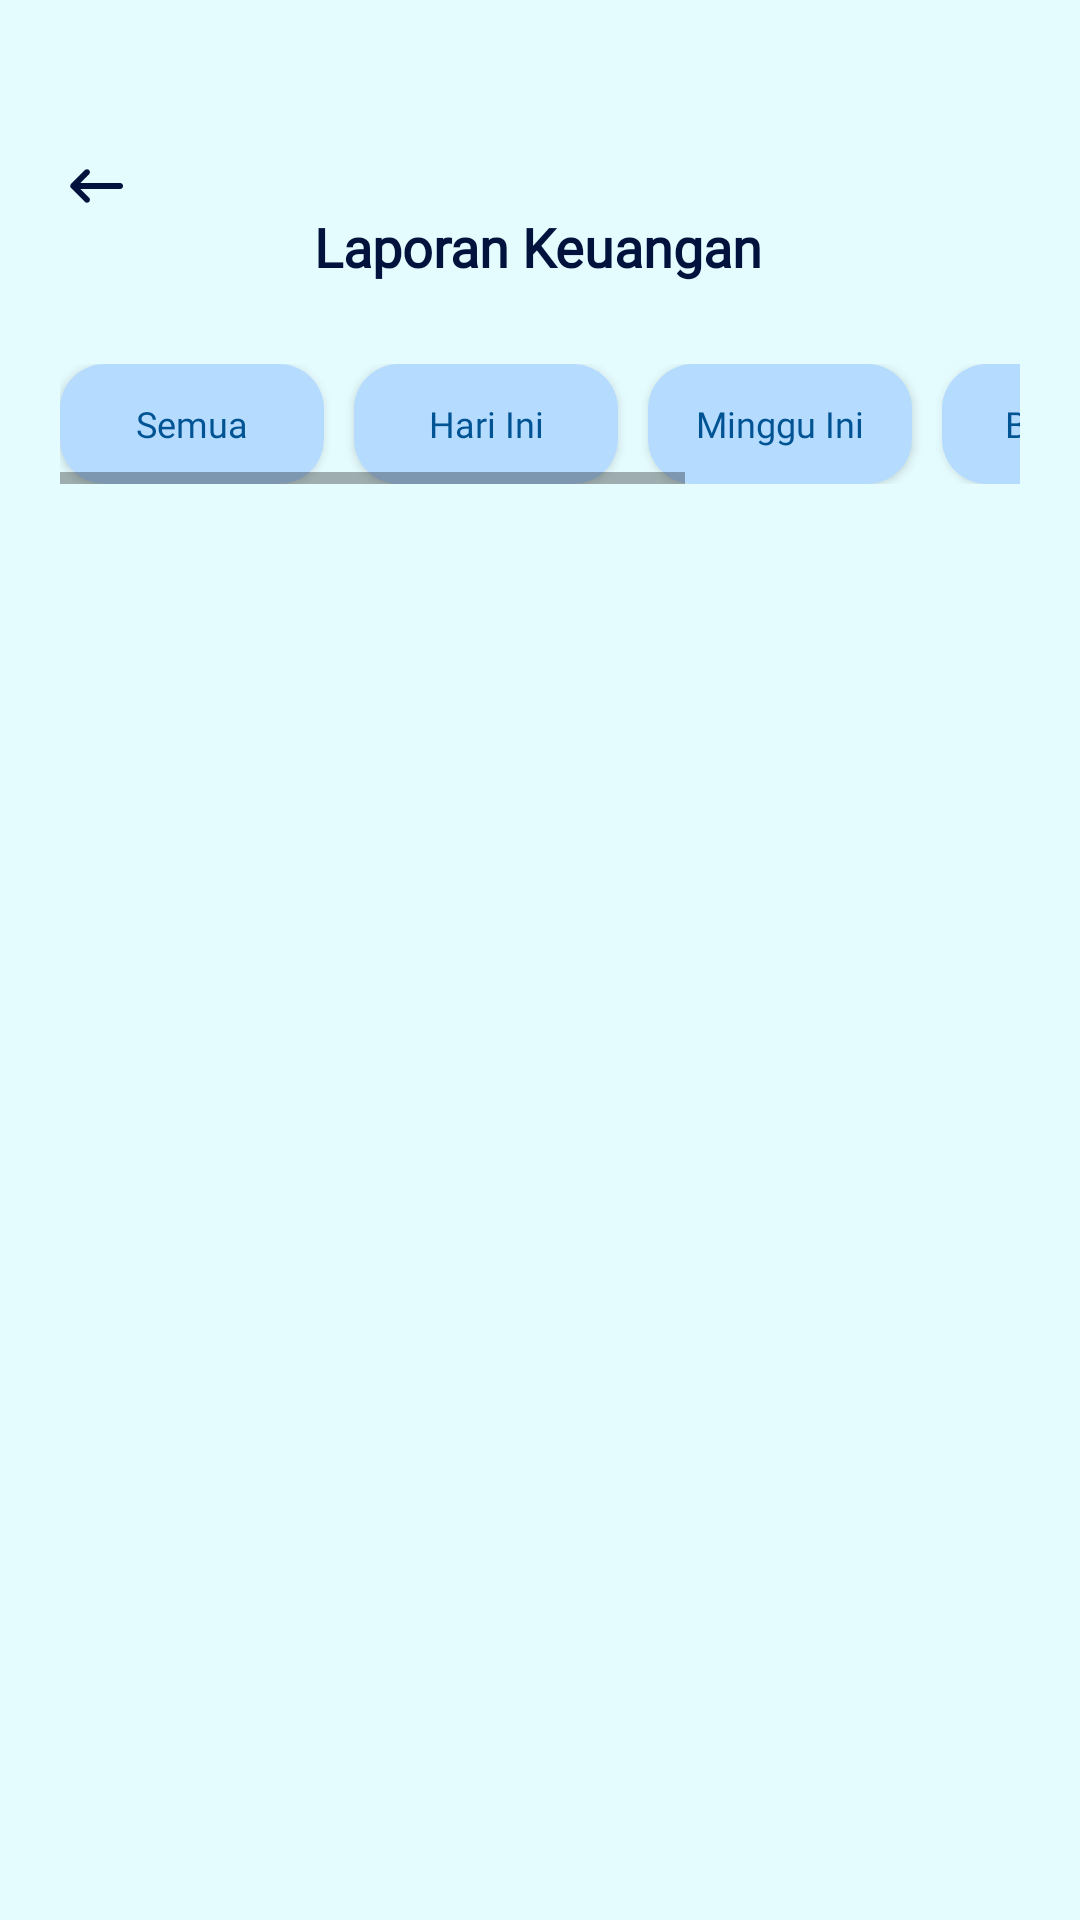

Icons on this 1080px x 1920px Android screen, each with the point to tap as point (x, y):
Back: point (96, 186)
